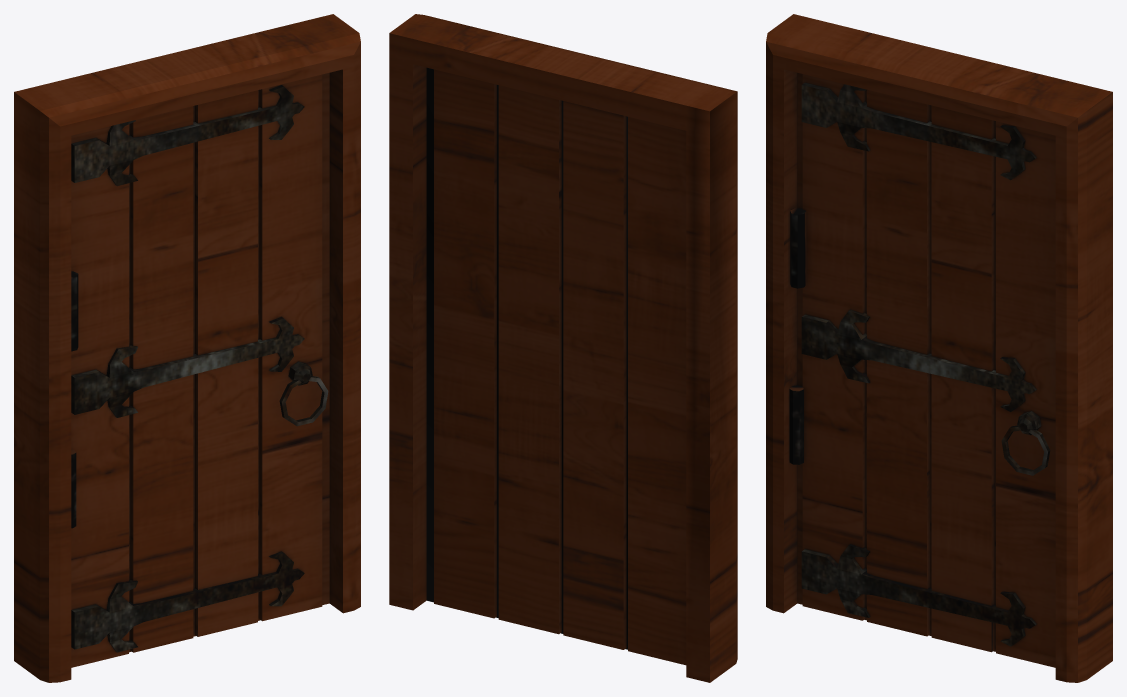
The model's file is PorteMedievale.fbx.
3 renders of one model, left to right at view 1: azimuth 30°, elevation 25°; view 2: azimuth 150°, elevation 25°; view 3: azimuth 330°, elevation 25°, orthographic.
Parts seen in each view (by area): view 1: PorteMedievale, ContourPorteMedievale, PoigneePorteMedievale; view 2: PorteMedievale, ContourPorteMedievale; view 3: PorteMedievale, ContourPorteMedievale, PoigneePorteMedievale.
Part boxes in pixels (x1,y1,x2,y2): PorteMedievale: [71, 73, 329, 667]; ContourPorteMedievale: [14, 14, 360, 682]; PoigneePorteMedievale: [279, 376, 328, 426]; PorteMedievale: [426, 67, 686, 665]; ContourPorteMedievale: [389, 14, 737, 682]; PorteMedievale: [789, 73, 1055, 667]; ContourPorteMedievale: [766, 14, 1112, 682]; PoigneePorteMedievale: [1001, 425, 1050, 475].
Size of the model in its own units: 120 by 205 by 21.79.
1 material, 1 textured.
